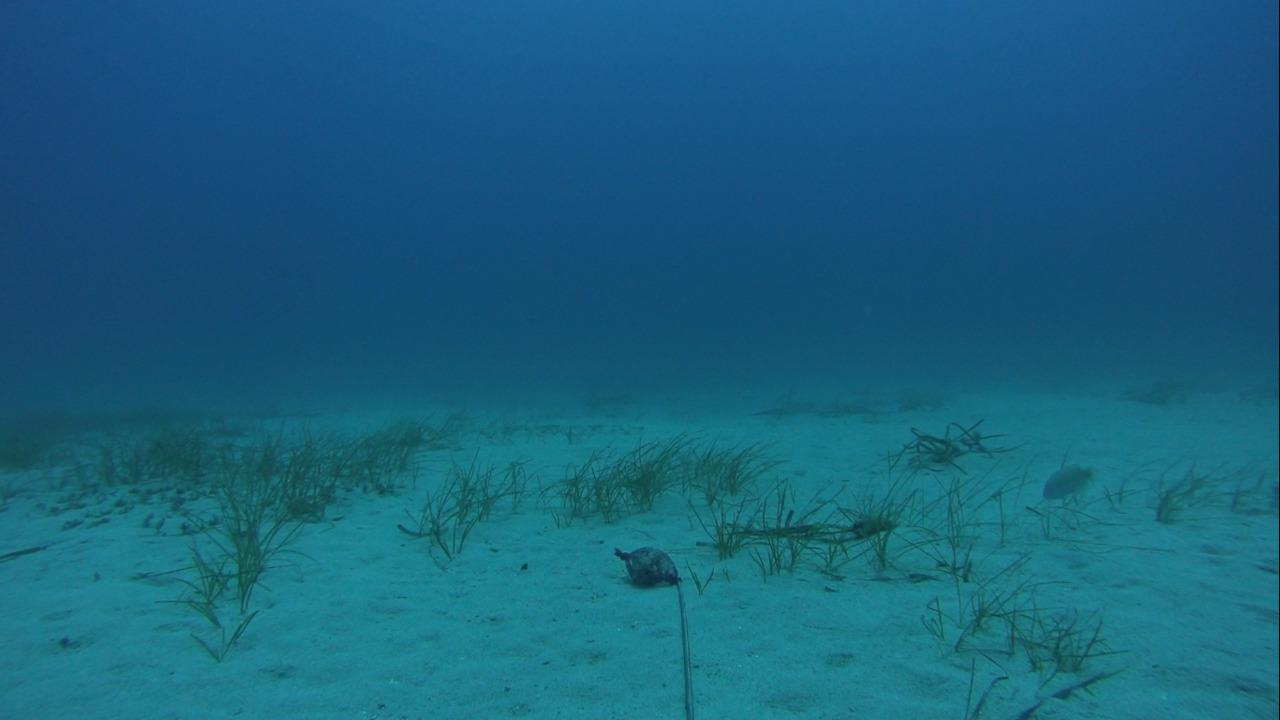raor: (1036, 459, 1099, 505)
